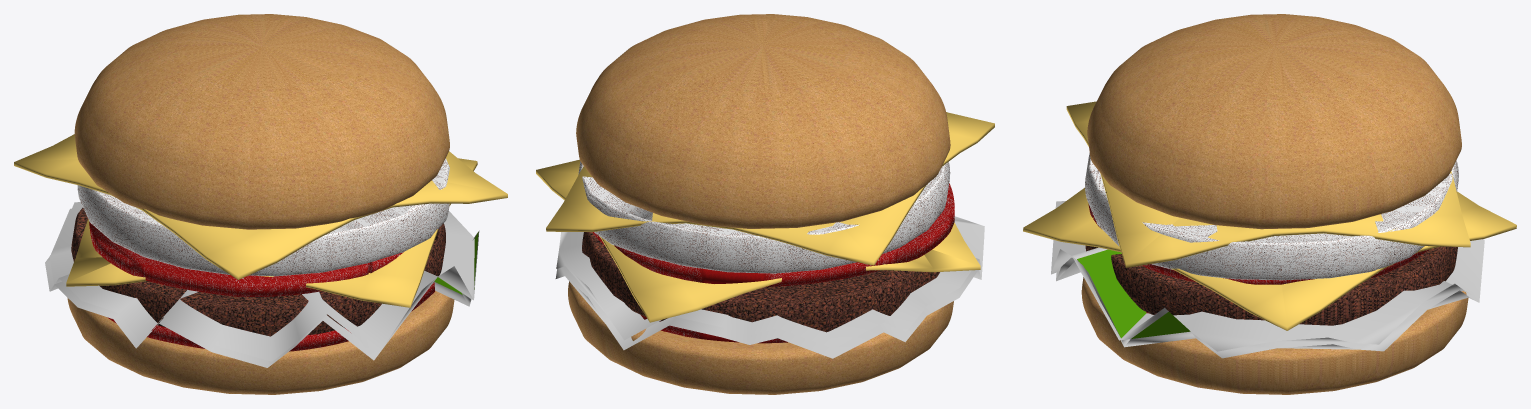
Rendered from burger.dae.
3 renders of one model, left to right at view 1: azimuth 30°, elevation 25°; view 2: azimuth 150°, elevation 25°; view 3: azimuth 270°, elevation 25°, orthographic.
Parts seen in each view (by area): view 1: Hamburger (×10); view 2: Hamburger (×10); view 3: Hamburger (×10).
Boxes of the visible parts, box(x1,y1,x2,y2) form: Hamburger (×10): box(14, 14, 507, 394); Hamburger (×10): box(536, 14, 994, 394); Hamburger (×10): box(1023, 14, 1516, 394).
Size of the model in its own units: 163 by 163 by 107.
